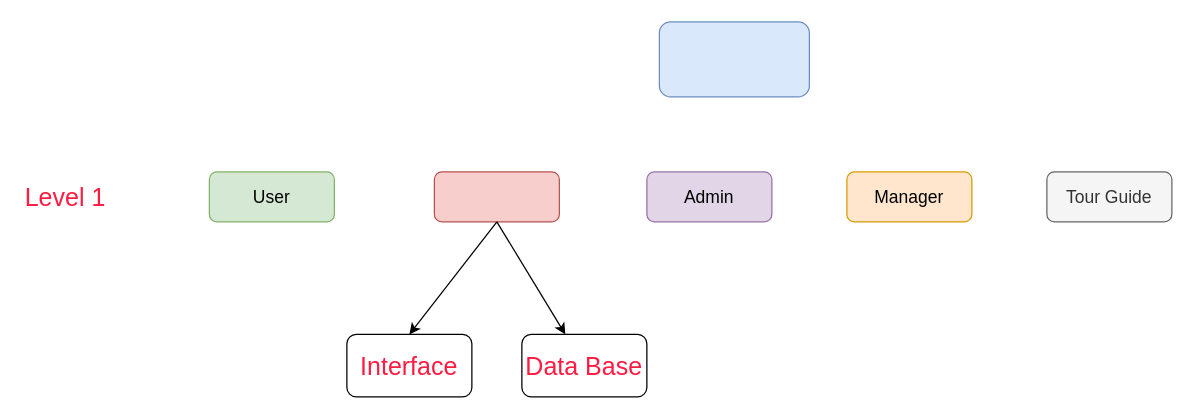
Image size: 1194x419. Some labels were removed from this diagram. Each missing label, with the centre of its shape:
System: point (496, 196)
Wild-life Safari Trip Management System: point (733, 59)
